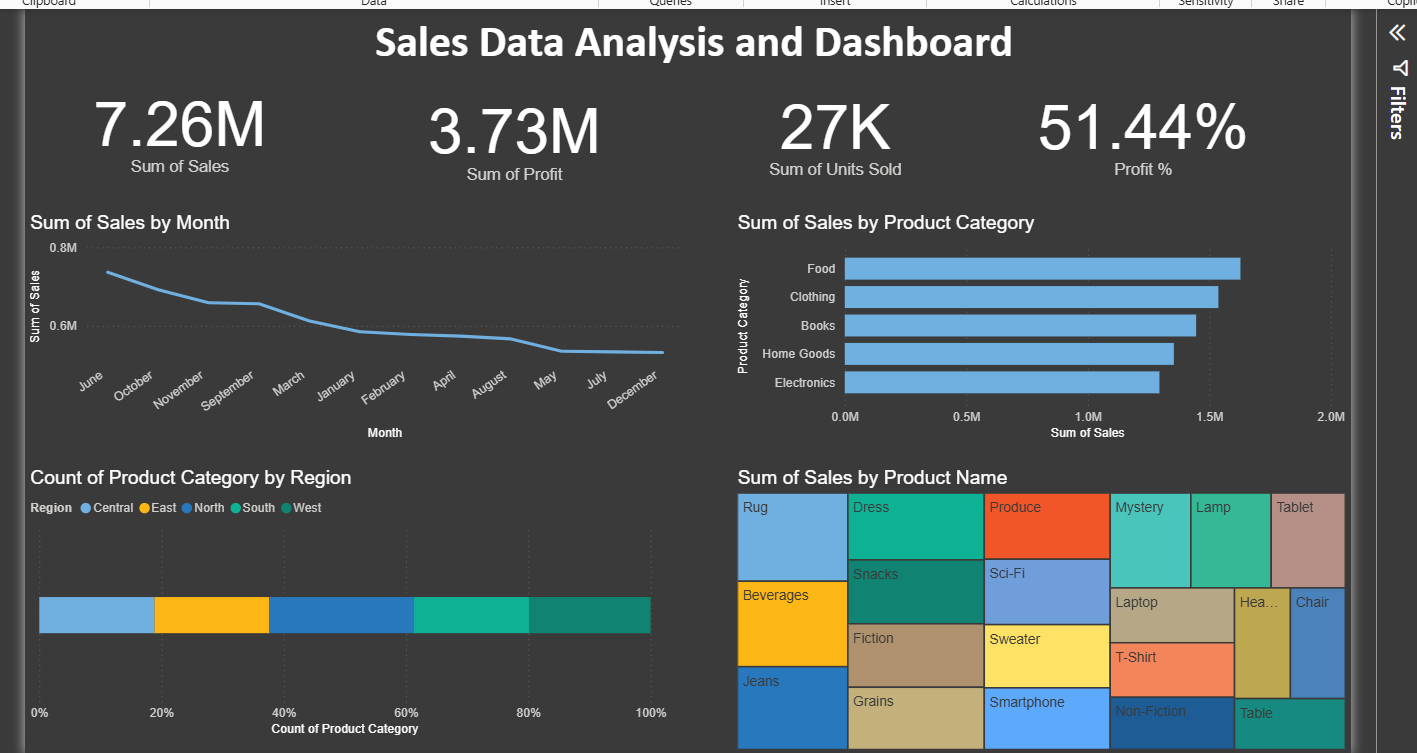

The dashboard page shown, as its layout file describes it:
{"tool":"powerbi","page":{"name":"Page 1","canvas":[1280,720],"ordinal":0},"visuals":[{"type":"lineChart","fields":{"Category":["Sales_Data_Analysis.Month"],"Y":["Sum(Sales_Data_Analysis.Revenue)"]},"box":[0,195,640,225],"z":0},{"type":"clusteredBarChart","fields":{"Category":["Sales_Data_Analysis.Product Category"],"Y":["Sum(Sales_Data_Analysis.Sales)"]},"box":[683.3,195,596.7,225],"z":1000},{"type":"treemap","fields":{"Group":["Sales_Data_Analysis.Product Name"],"Values":["Sum(Sales_Data_Analysis.Sales)"]},"box":[683.3,441.7,596.7,278.3],"z":2000},{"type":"hundredPercentStackedBarChart","fields":{"Series":["Sales_Data_Analysis.Region"],"Y":["CountNonNull(Sales_Data_Analysis.Product Category)"]},"box":[0,441.7,625,265],"z":3000},{"type":"textbox","box":[0,0,1280,68.3],"z":7000},{"type":"card","fields":{"Values":["Sum(Sales_Data_Analysis.Sales)","select"]},"box":[10,65,280,100],"z":8000},{"type":"card","fields":{"Values":["Sum(Sales_Data_Analysis.Profit)"]},"box":[345,68.3,255,106.7],"z":9000},{"type":"card","fields":{"Values":["Sum(Sales_Data_Analysis.Units Sold)"]},"box":[666.7,65,230,105],"z":10000},{"type":"card","fields":{"Values":["Sales_Data_Analysis.Profit %"]},"box":[960,65,238.3,105],"z":11000}]}

Visuals, with their boxes on the page's 1280x720 design canvas (x1, y1, x2, y2). These are canvas units, not pixel positions in the 1417x753 screenshot, which may show the page scaled, cropped or inside an application window:
lineChart - Sales_Data_Analysis.Month x Sum(Sales_Data_Analysis.Revenue): (0,195,640,420)
clusteredBarChart - Sales_Data_Analysis.Product Category x Sum(Sales_Data_Analysis.Sales): (683,195,1280,420)
treemap - Sales_Data_Analysis.Product Name x Sum(Sales_Data_Analysis.Sales): (683,442,1280,720)
hundredPercentStackedBarChart - Sales_Data_Analysis.Region x CountNonNull(Sales_Data_Analysis.Product Category): (0,442,625,707)
textbox: (0,0,1280,68)
card - Sum(Sales_Data_Analysis.Sales) x select: (10,65,290,165)
card - Sum(Sales_Data_Analysis.Profit): (345,68,600,175)
card - Sum(Sales_Data_Analysis.Units Sold): (667,65,897,170)
card - Sales_Data_Analysis.Profit %: (960,65,1198,170)
